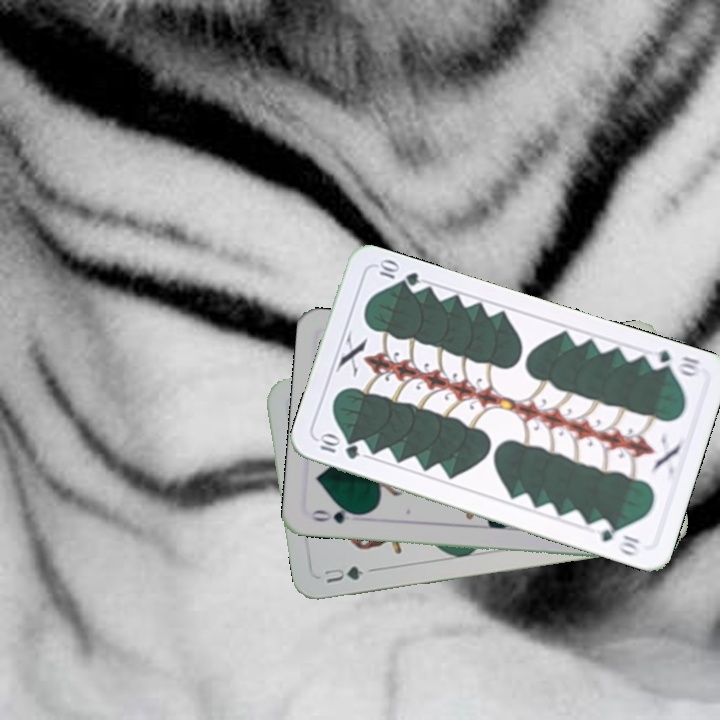G10: (643, 346, 703, 380), (314, 431, 362, 462)
GO: (307, 503, 366, 527)
GU: (320, 561, 376, 586)
